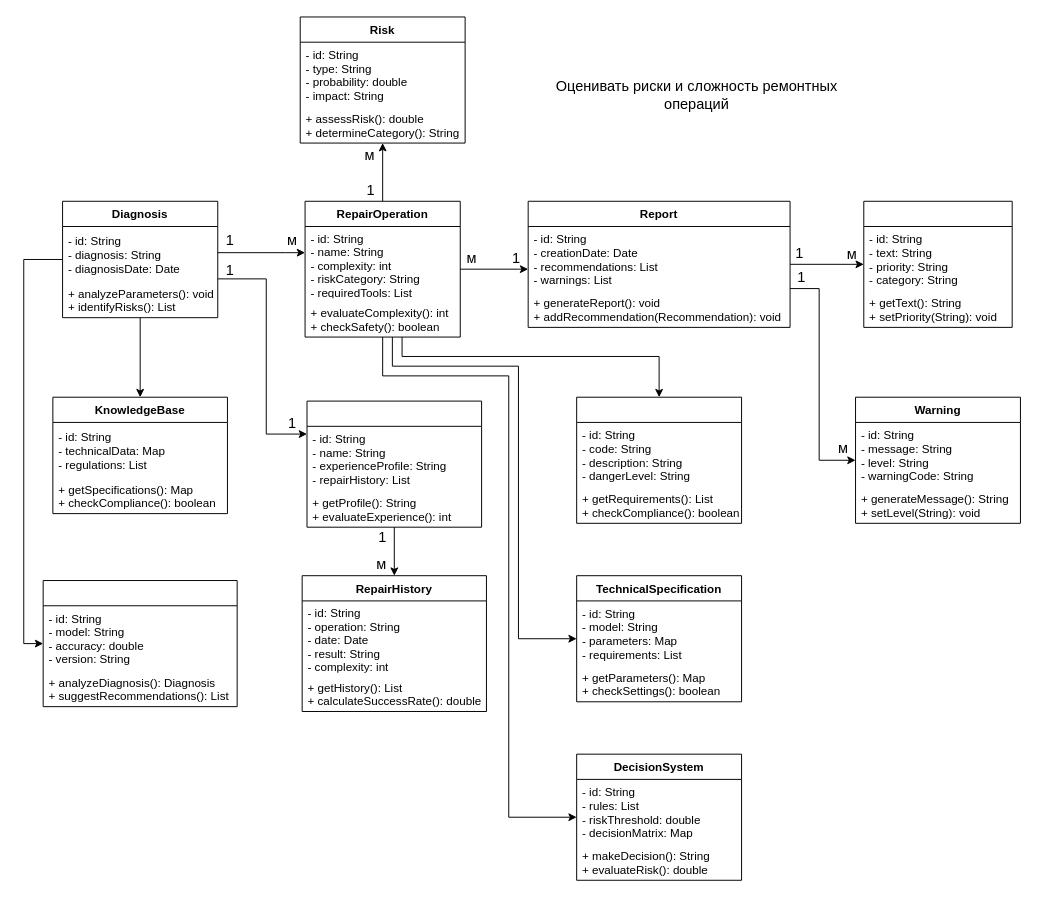
The diagram is 1038 pixels wide and 897 high, and some of its shapes have lost their labels. Here are the shapes that lost their labels. From the top down, the box of each, then its label:
(863, 200, 1012, 327): Recommendation
(306, 400, 482, 527): User
(576, 396, 742, 523): SafetyStandard
(42, 580, 237, 707): AIAssistant
